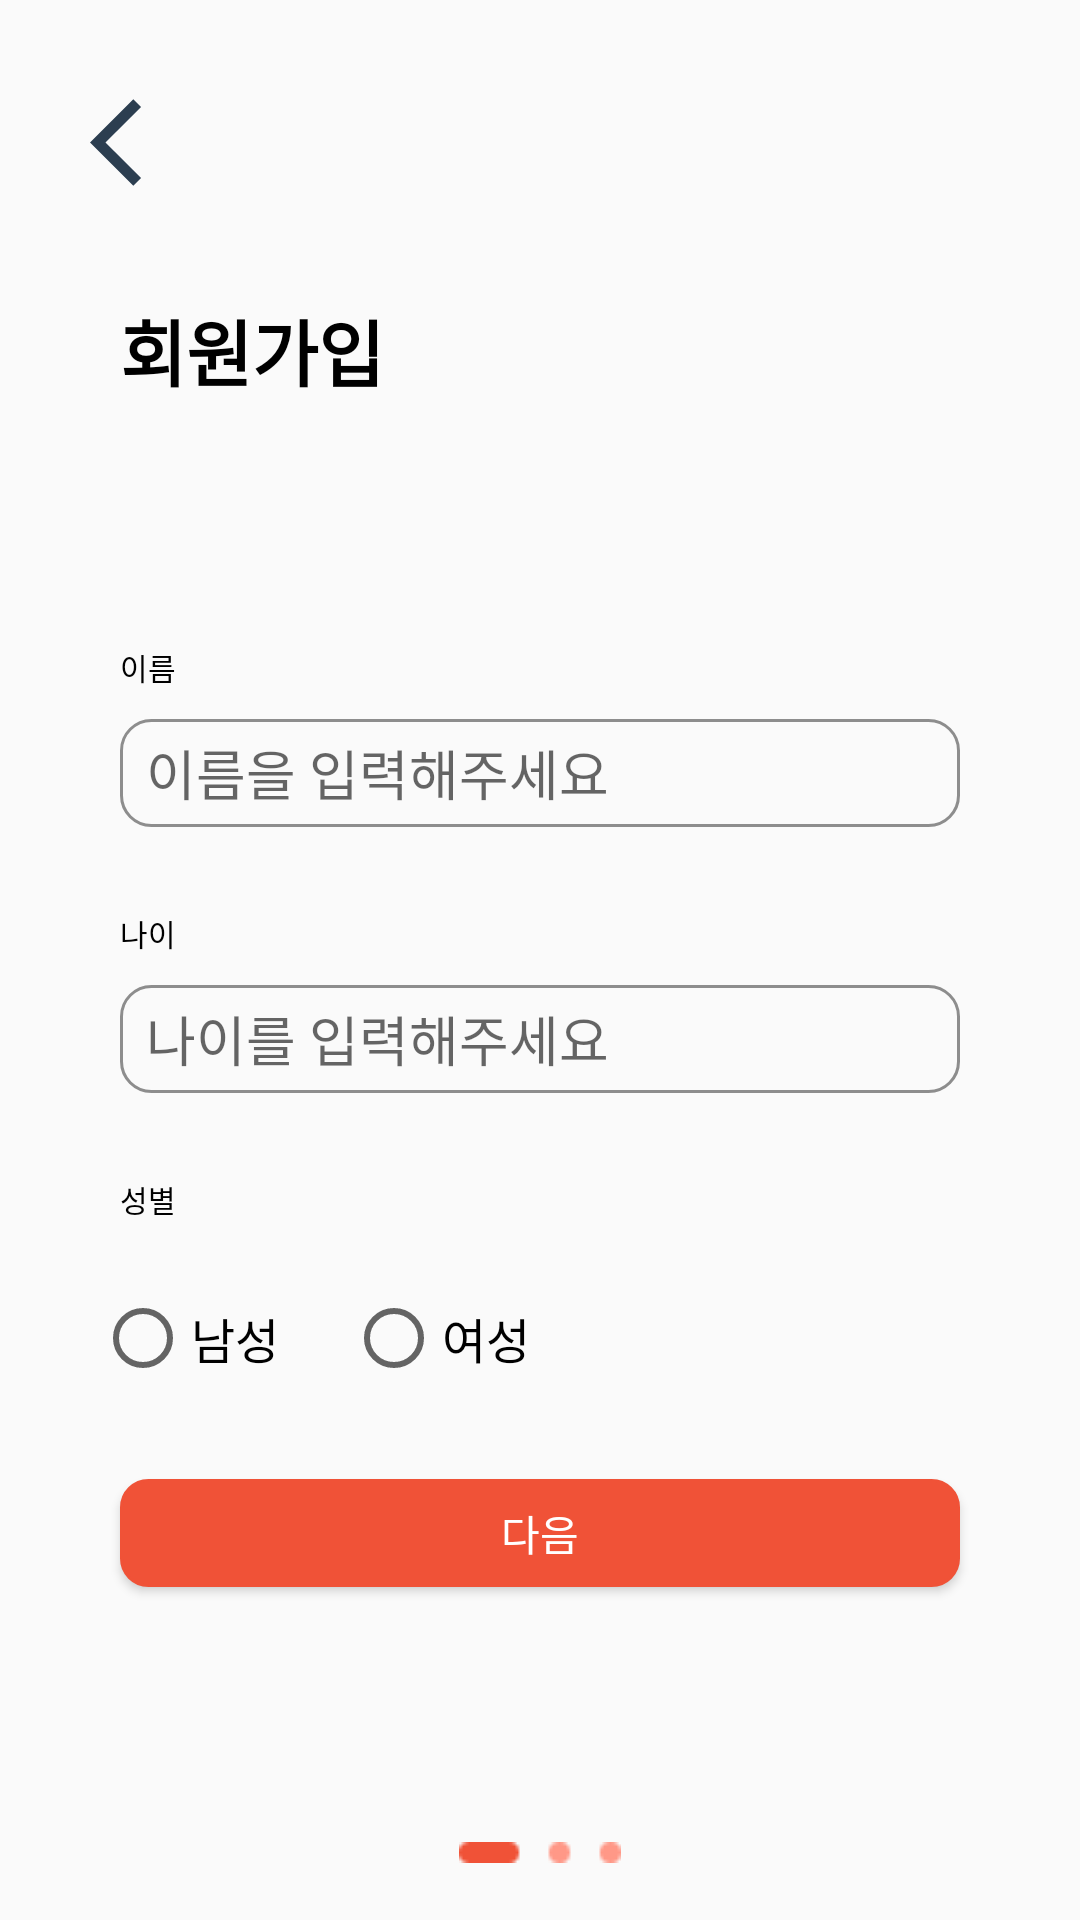

Where icons sit on this 1080*1920 app screen, as (x1, y1, x2, y2):
arrow back: (90, 99, 141, 186)
